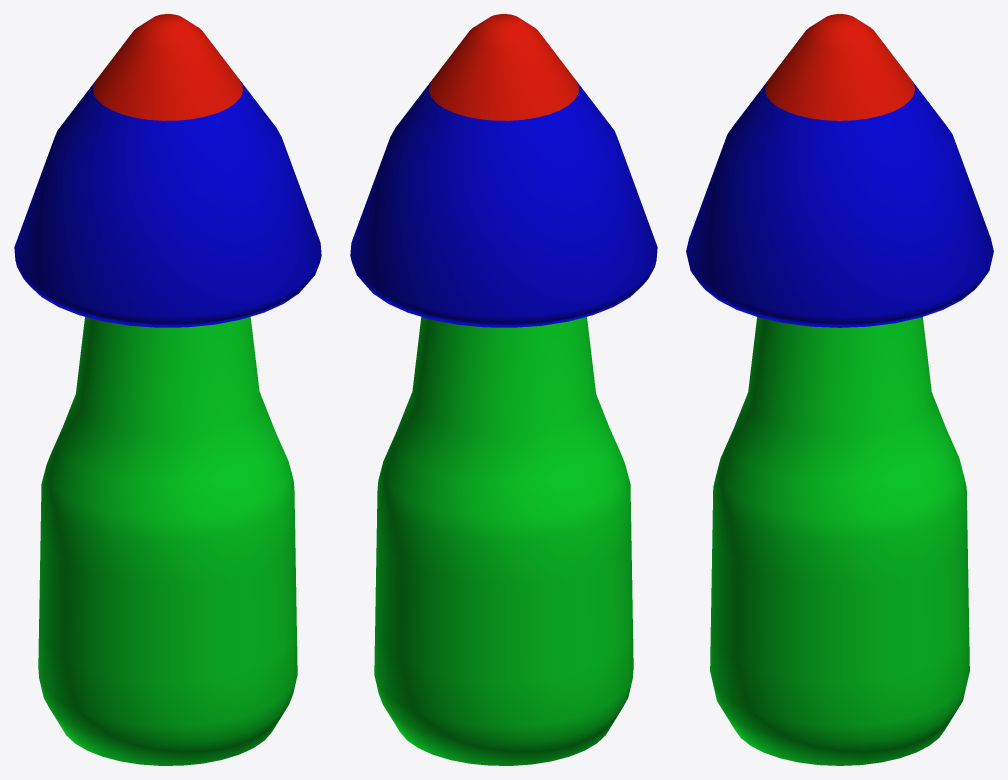
File: Missle.fbx
3 views of the same model, side by side, from view 1: azimuth 30°, elevation 25°; view 2: azimuth 150°, elevation 25°; view 3: azimuth 270°, elevation 25° (orthographic).
Parts seen in each view (by area): view 1: Cylinder; view 2: Cylinder; view 3: Cylinder.
Part boxes in pixels (box(x1,y1,x2,y2)): Cylinder: box(14, 14, 321, 765); Cylinder: box(350, 14, 657, 765); Cylinder: box(686, 14, 993, 765).
Bounding box in the file's own units: 178 × 445 × 178.
